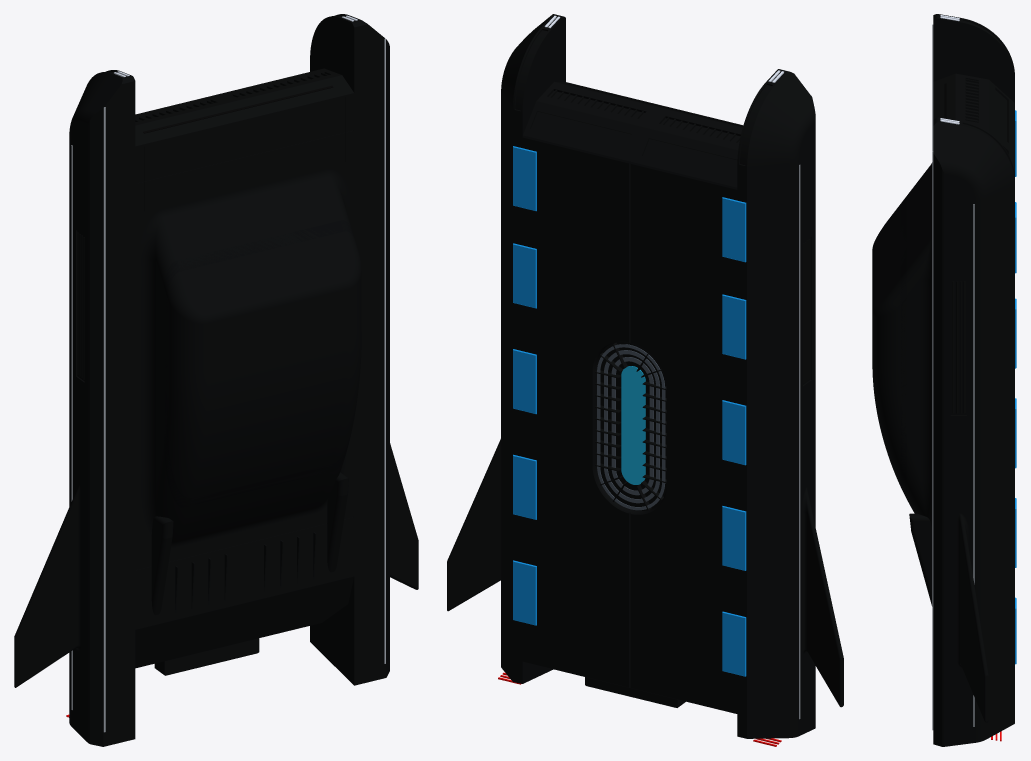
Rendered from neorc11_render.obj.
3 views of the same model, side by side, from view 1: azimuth 30°, elevation 25°; view 2: azimuth 150°, elevation 25°; view 3: azimuth 270°, elevation 25° (orthographic). The views are drawn at different scales.
Visible parts, largest first — view 1: rc11_hull, rc11_Visor.001, rc11_trim.001, rc11_Visor, rc11_trim, rc11_sill.001; view 2: rc11_hull, rc11_drive_core, rc11_hover_pad.008, rc11_hover_pad.009, rc11_hover_pad.006, rc11_hover_pad.005, rc11_hover_pad.007, rc11_drive_ring_2, rc11_hover_pad.003, rc11_hover_pad.004, rc11_hover_pad.001, rc11_hover_pad (+4 smaller); view 3: rc11_hull, rc11_trim, rc11_Visor, rc11_sill, rc11_louvre.002, rc11_louvre.003, rc11_louvre, rc11_louvre.001.
Boxes of the visible parts, x1,y1,x2,y2 form: rc11_hull: [14, 14, 418, 746]; rc11_Visor.001: [164, 241, 261, 507]; rc11_trim.001: [103, 107, 105, 732]; rc11_Visor: [259, 220, 354, 488]; rc11_trim: [384, 38, 385, 663]; rc11_sill.001: [71, 145, 72, 709]; rc11_hull: [447, 14, 843, 738]; rc11_drive_core: [621, 366, 645, 484]; rc11_hover_pad.008: [722, 294, 746, 359]; rc11_hover_pad.009: [722, 197, 746, 262]; rc11_hover_pad.006: [722, 611, 746, 676]; rc11_hover_pad.005: [722, 400, 746, 465]; rc11_hover_pad.007: [722, 506, 746, 570]; rc11_drive_ring_2: [597, 344, 665, 510]; rc11_hover_pad.003: [513, 243, 536, 308]; rc11_hover_pad.004: [513, 146, 536, 211]; rc11_hover_pad.001: [513, 560, 536, 625]; rc11_hover_pad: [513, 349, 536, 414]; rc11_hull: [872, 14, 1014, 746]; rc11_trim: [932, 151, 933, 730]; rc11_Visor: [900, 234, 906, 497]; rc11_sill: [973, 204, 974, 726]; rc11_louvre.002: [956, 281, 958, 413]; rc11_louvre.003: [952, 281, 954, 413]; rc11_louvre: [963, 281, 965, 413]; rc11_louvre.001: [960, 281, 961, 413].
Size of the model in its own units: 9809 by 15351 by 3277.
